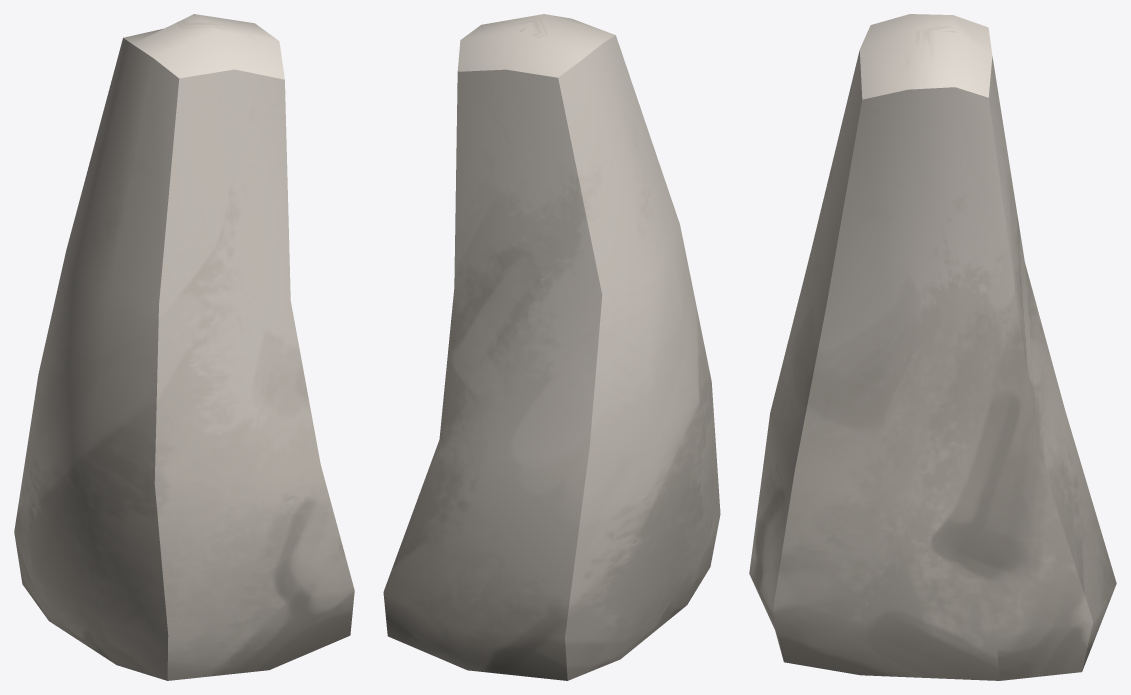
Rendered from rock1.FBX.
The picture shows the model from 3 angles, left to right: view 1: azimuth 30°, elevation 25°; view 2: azimuth 150°, elevation 25°; view 3: azimuth 270°, elevation 25°; orthographic projection. The views are drawn at different scales.
Visible parts, largest first — view 1: Box003; view 2: Box003; view 3: Box003.
Part boxes in pixels (box(x1,y1,x2,y2)): Box003: box(14, 14, 354, 680); Box003: box(383, 14, 720, 680); Box003: box(749, 14, 1116, 680).
Bounding box in the file's own units: 34.56 × 44.92 × 85.69.
